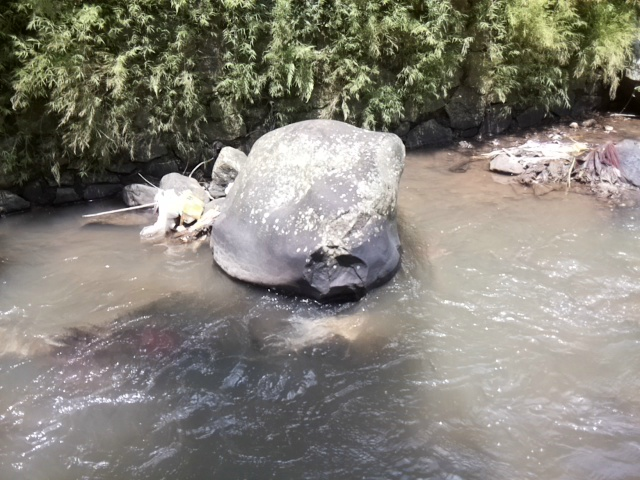Sampah_Plastik: (514, 137, 629, 197), (151, 184, 206, 236)
